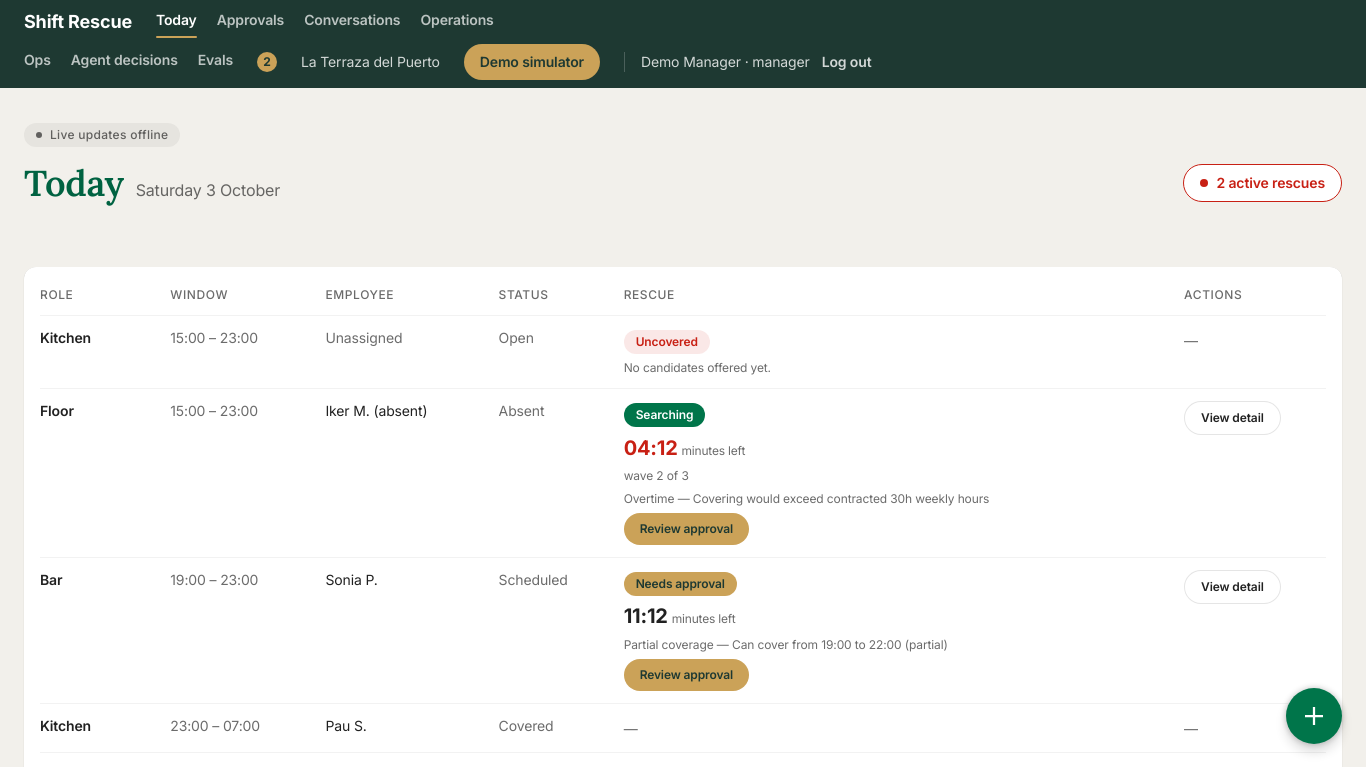
Test: App shell › returns to the login screen after logging out
Expected: the heading "Today" is shown, top-left (24, 163), bottom-right (124, 203)
Click the button "Log out". click: point(847, 62)
box: top-left (822, 52), bottom-right (872, 72)
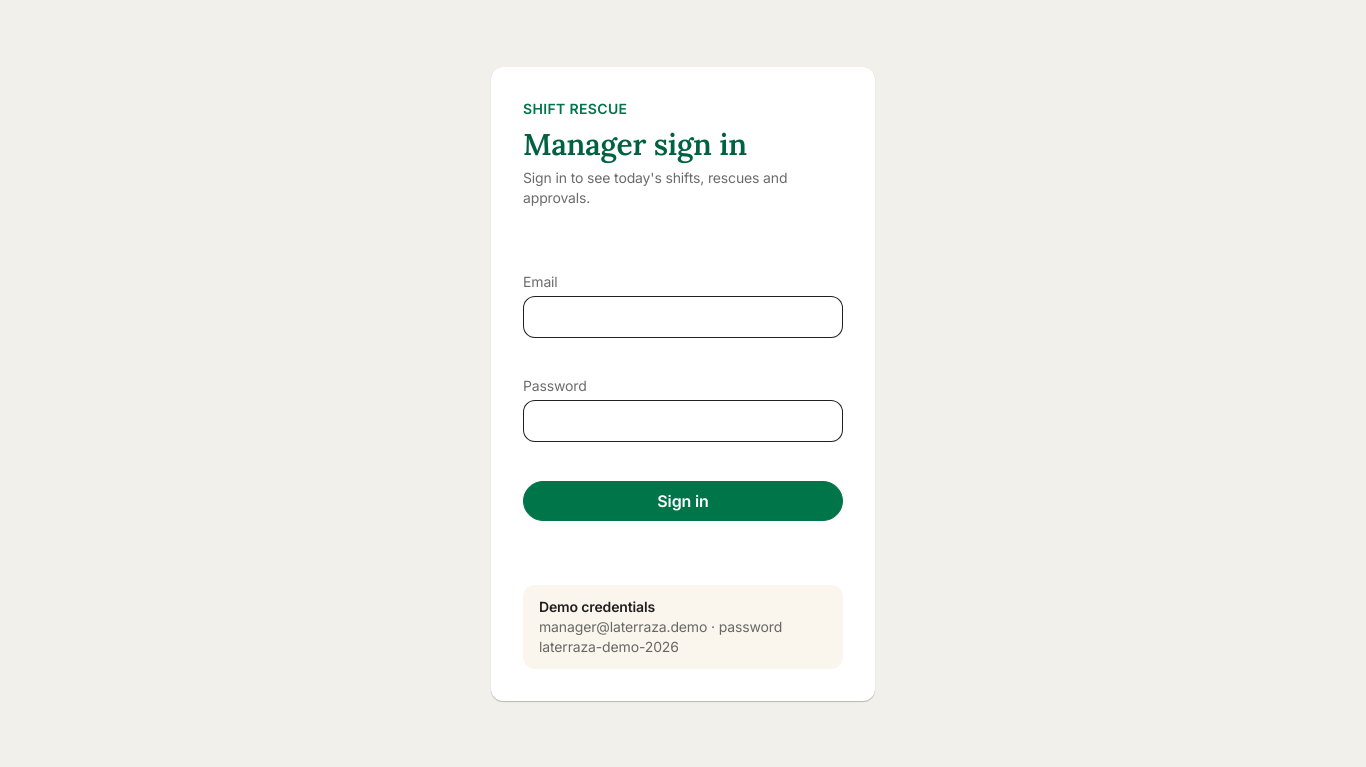
Now the heading "Manager sign in" is shown, box top-left (523, 125), bottom-right (747, 163)
